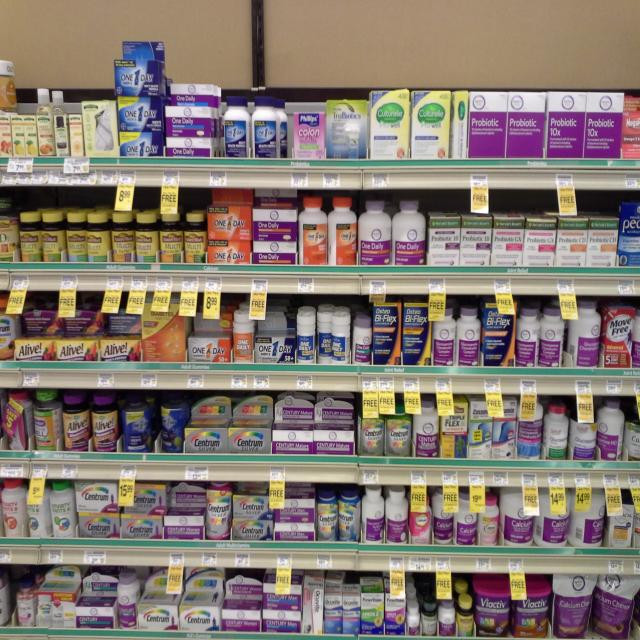unorganised: (318, 315, 334, 360)
